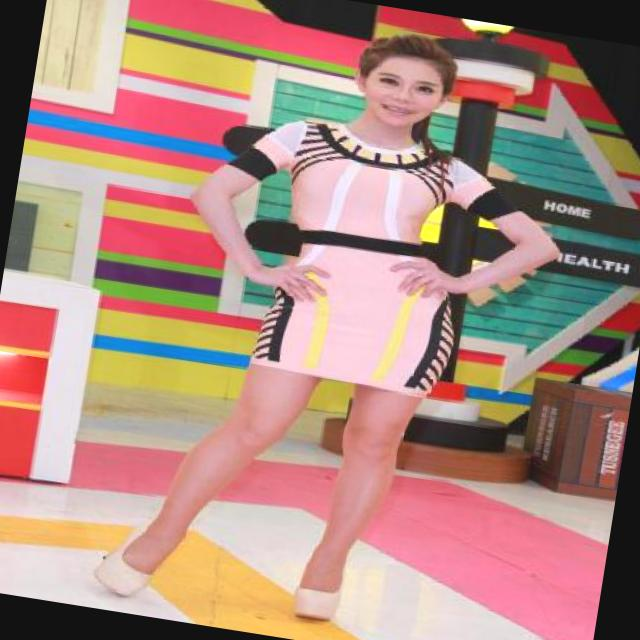Person: (108, 0, 536, 640)
